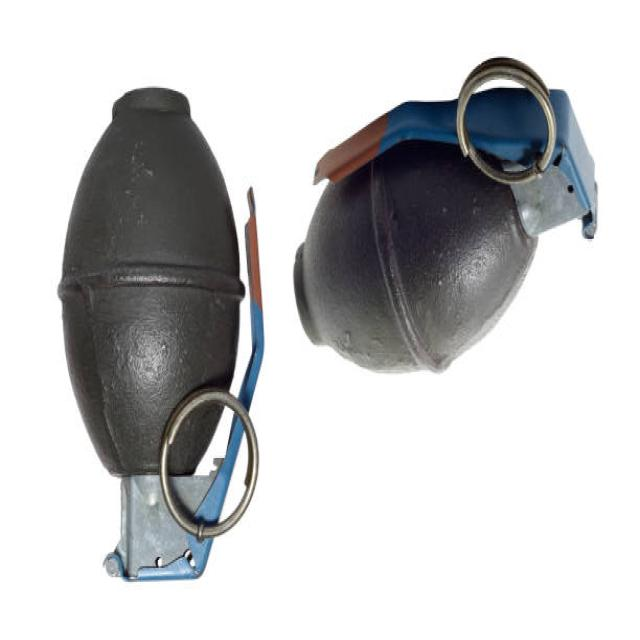grenade: (52, 79, 274, 588), (293, 55, 608, 382)
